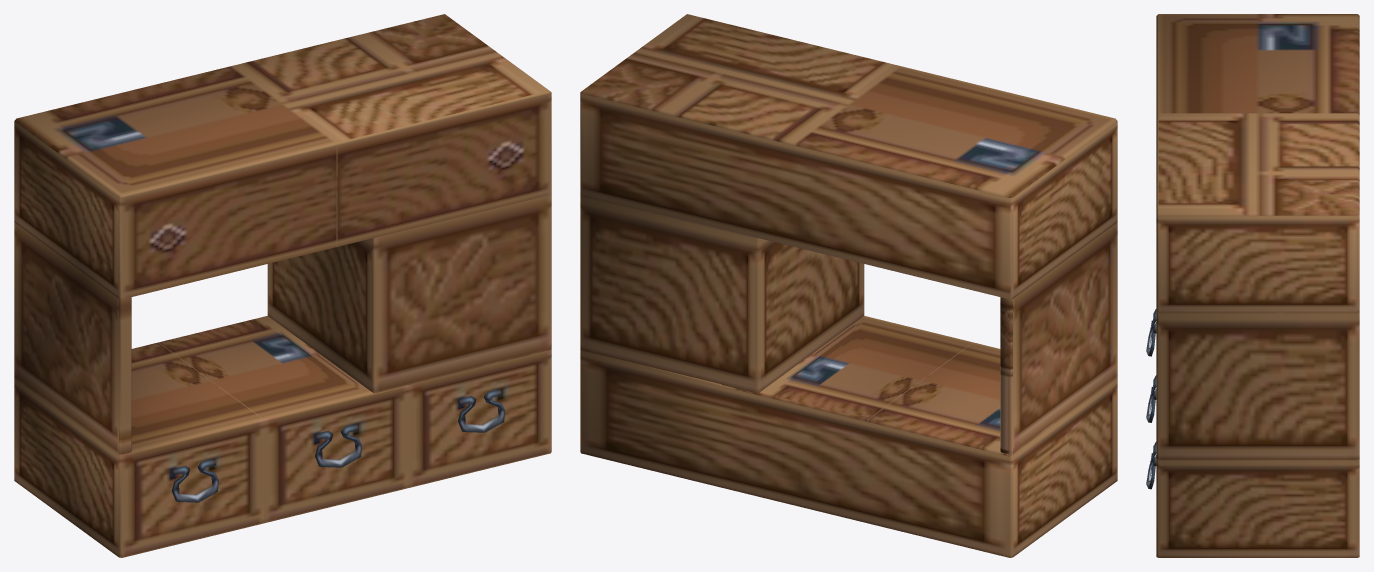
File: int_jpn_cupboard.dae
3 renders of one model, left to right at view 1: azimuth 30°, elevation 25°; view 2: azimuth 150°, elevation 25°; view 3: azimuth 270°, elevation 25°, orthographic. The views are drawn at different scales.
Visible parts, largest first — view 1: int_jpn_cupboard; view 2: int_jpn_cupboard; view 3: int_jpn_cupboard.
Part boxes in pixels (left/top/right/bottom): int_jpn_cupboard: left=14, top=14, right=551, bottom=557; int_jpn_cupboard: left=580, top=14, right=1117, bottom=557; int_jpn_cupboard: left=1146, top=14, right=1359, bottom=557.
Size of the model in its own units: 56 by 44.8 by 25.2.
1 material, 1 textured.
